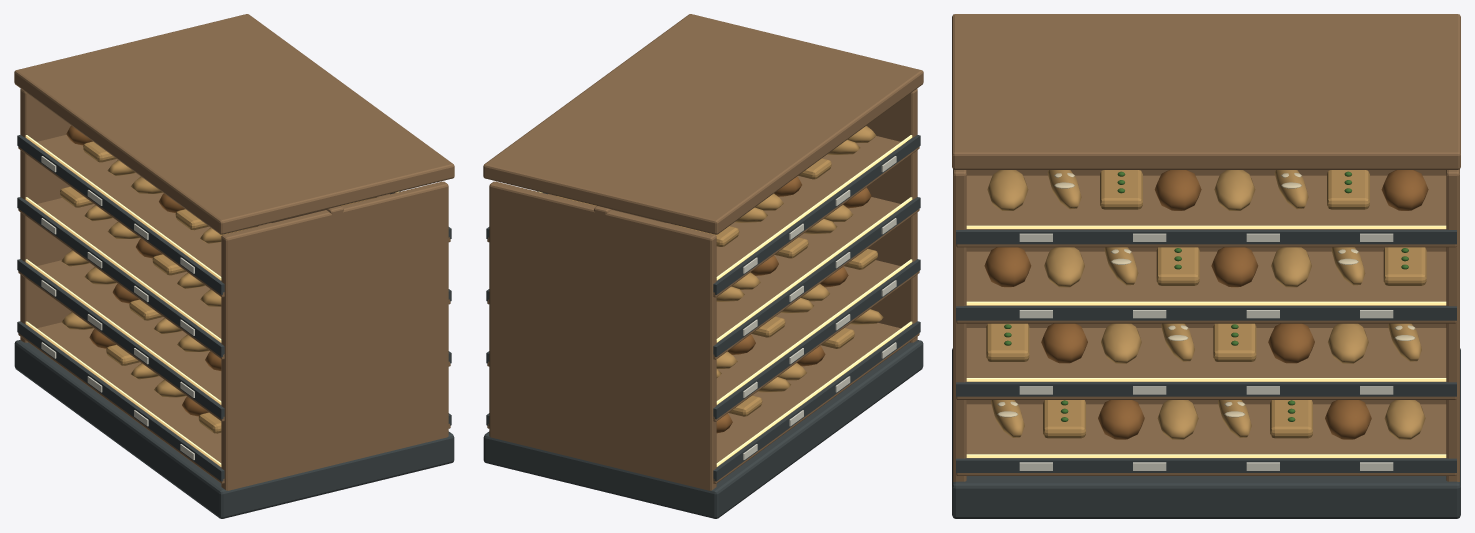
The model's file is bakery.glb.
3 renders of one model, left to right at view 1: azimuth 30°, elevation 25°; view 2: azimuth 150°, elevation 25°; view 3: azimuth 270°, elevation 25°, orthographic. The views are drawn at different scales.
Parts seen in each view (by area): view 1: bakery_fixture_Oiled warm oak, bakery_fixture_Powder-coated graphite, bakery_detail_bread, bakery_fixture_Warm bakery strip, bakery_micro_Ivory shelf label, bakery_detail_crust; view 2: bakery_fixture_Oiled warm oak, bakery_fixture_Powder-coated graphite, bakery_detail_bread, bakery_fixture_Warm bakery strip, bakery_detail_crust, bakery_micro_Ivory shelf label; view 3: bakery_fixture_Oiled warm oak, bakery_fixture_Powder-coated graphite, bakery_detail_bread, bakery_detail_crust, bakery_fixture_Warm bakery strip, bakery_micro_Ivory shelf label, bakery_micro_flour, bakery_micro_Leaf green.
Part boxes in pixels (<box>): bakery_fixture_Oiled warm oak: <box>14,14,454,490</box>; bakery_fixture_Powder-coated graphite: <box>14,135,454,518</box>; bakery_detail_bread: <box>60,141,376,433</box>; bakery_fixture_Warm bakery strip: <box>25,135,399,466</box>; bakery_micro_Ivory shelf label: <box>41,156,194,459</box>; bakery_detail_crust: <box>66,125,221,416</box>; bakery_fixture_Oiled warm oak: <box>483,14,923,490</box>; bakery_fixture_Powder-coated graphite: <box>483,135,923,518</box>; bakery_detail_bread: <box>556,126,883,416</box>; bakery_fixture_Warm bakery strip: <box>538,135,912,466</box>; bakery_detail_crust: <box>716,176,871,433</box>; bakery_micro_Ivory shelf label: <box>743,156,896,459</box>; bakery_fixture_Oiled warm oak: <box>952,14,1460,481</box>; bakery_fixture_Powder-coated graphite: <box>952,229,1460,518</box>; bakery_detail_bread: <box>986,170,1426,439</box>; bakery_detail_crust: <box>984,170,1428,439</box>; bakery_fixture_Warm bakery strip: <box>966,225,1446,457</box>; bakery_micro_Ivory shelf label: <box>1019,233,1393,470</box>; bakery_micro_flour: <box>997,173,1415,417</box>; bakery_micro_Leaf green: <box>1004,171,1408,421</box>.
Size of the model in its own units: 1.7 by 2.07 by 2.6.
